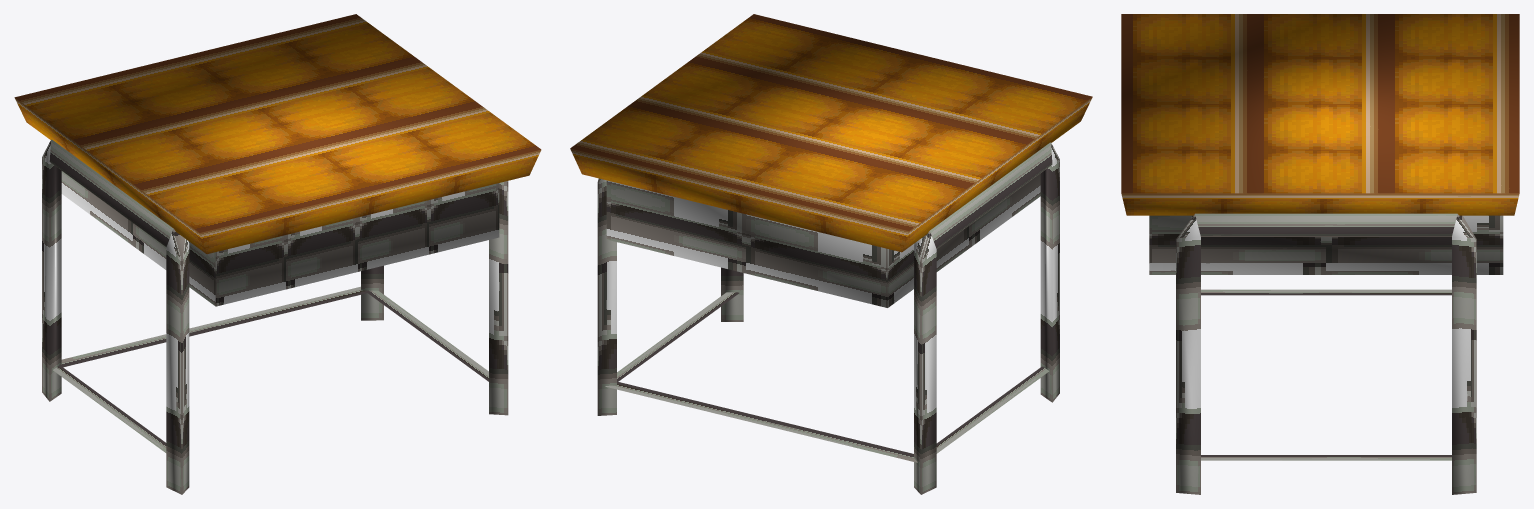
Rendered from 3456IMSL01_05.gltf.
3 renders of one model, left to right at view 1: azimuth 30°, elevation 25°; view 2: azimuth 150°, elevation 25°; view 3: azimuth 270°, elevation 25°, orthographic. The views are drawn at different scales.
Visible parts, largest first — view 1: 3456IMSL01_05; view 2: 3456IMSL01_05; view 3: 3456IMSL01_05.
Boxes of the visible parts, x1=… form: 3456IMSL01_05: x1=14, y1=14, x2=541, y2=494; 3456IMSL01_05: x1=570, y1=14, x2=1092, y2=494; 3456IMSL01_05: x1=1121, y1=14, x2=1519, y2=494.
Bounding box in the file's own units: 0.9502 × 0.75 × 0.8918.
Materials: 2 (2 with a texture image).
